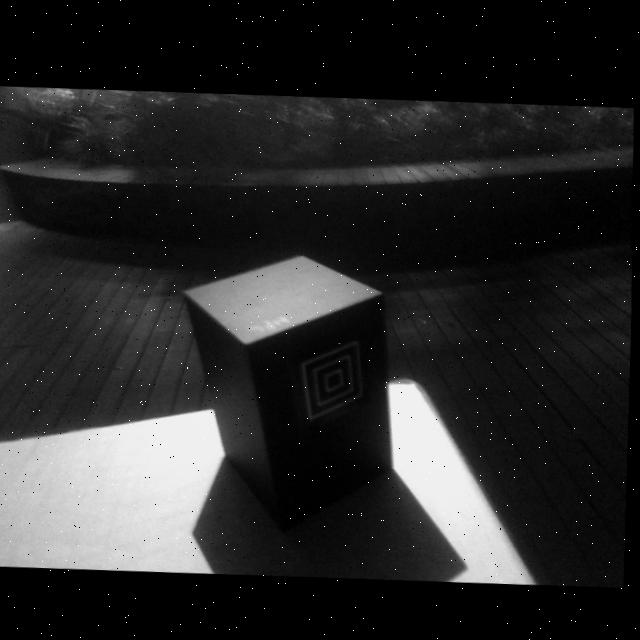BULLSEYE: (302, 338, 364, 416)
